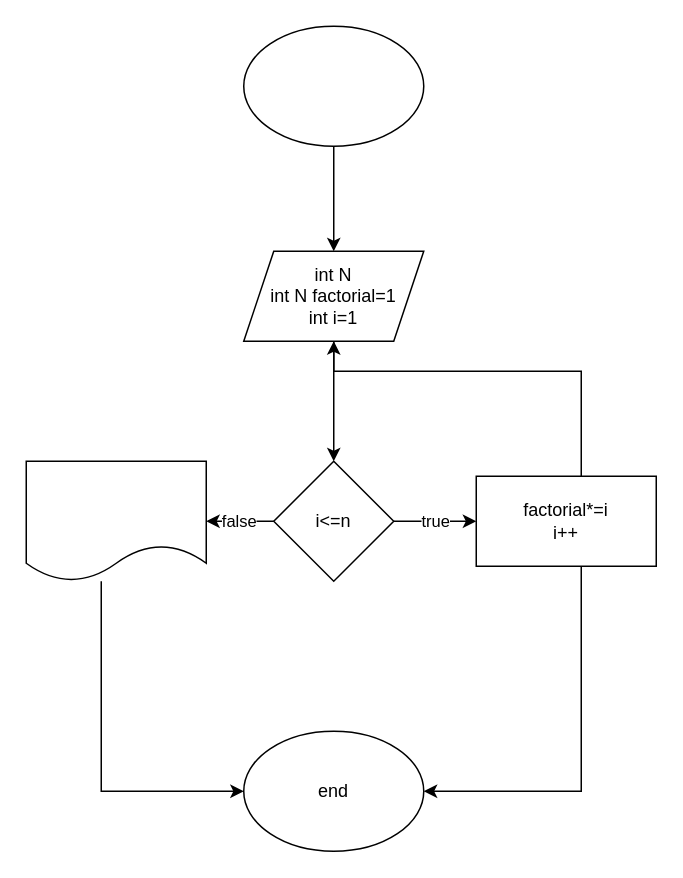
This 683x878 diagram has some shape labels left out. The centre of each missing label's shape, as x and y in pixels:
factorial: (115,520)
start: (333,85)
